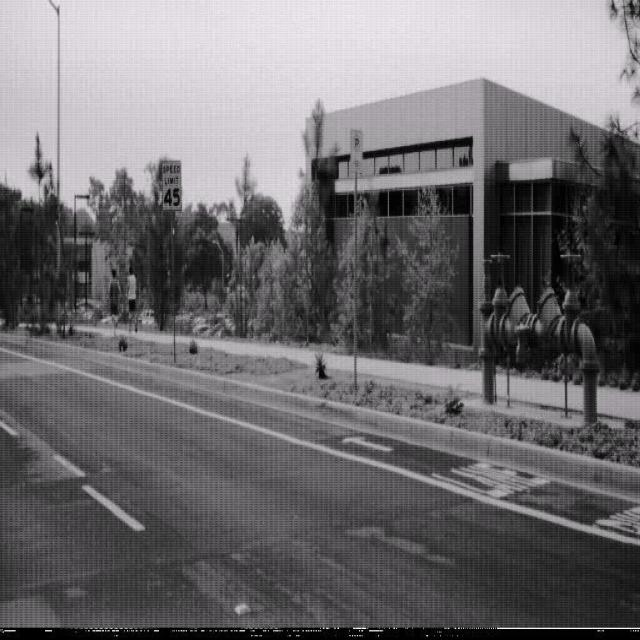speedLimit45: (160, 158, 182, 212)
